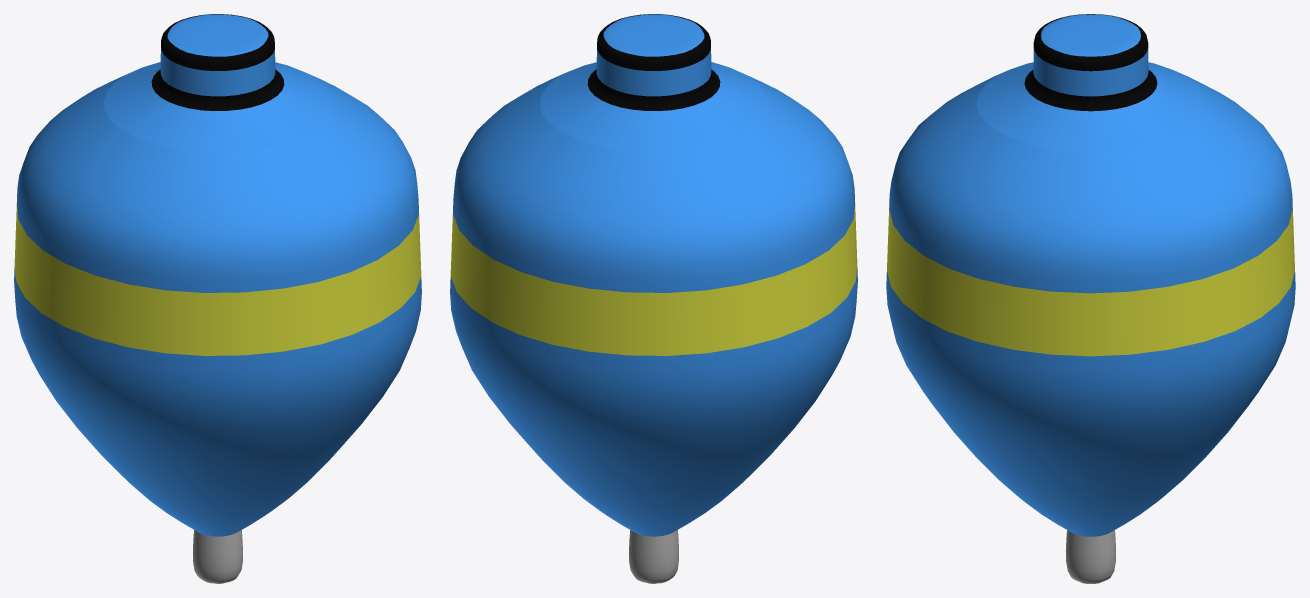
3 views of the same model, side by side, from view 1: azimuth 30°, elevation 25°; view 2: azimuth 150°, elevation 25°; view 3: azimuth 270°, elevation 25° (orthographic).
Visible parts, largest first — view 1: Trompo_Mat_0, Trompo_Mat.2_0, Trompo_Mat.3_0, Trompo_Mat.1_0; view 2: Trompo_Mat_0, Trompo_Mat.2_0, Trompo_Mat.3_0, Trompo_Mat.1_0; view 3: Trompo_Mat_0, Trompo_Mat.2_0, Trompo_Mat.3_0, Trompo_Mat.1_0.
Boxes of the visible parts, left/top/right/bottom form: Trompo_Mat_0: left=14, top=14, right=421, bottom=536; Trompo_Mat.2_0: left=14, top=203, right=421, bottom=355; Trompo_Mat.3_0: left=151, top=14, right=284, bottom=110; Trompo_Mat.1_0: left=193, top=530, right=242, bottom=583; Trompo_Mat_0: left=450, top=14, right=857, bottom=536; Trompo_Mat.2_0: left=450, top=203, right=857, bottom=355; Trompo_Mat.3_0: left=587, top=14, right=720, bottom=110; Trompo_Mat.1_0: left=629, top=530, right=678, bottom=583; Trompo_Mat_0: left=886, top=14, right=1295, bottom=536; Trompo_Mat.2_0: left=887, top=208, right=1294, bottom=356; Trompo_Mat.3_0: left=1024, top=14, right=1157, bottom=111; Trompo_Mat.1_0: left=1065, top=530, right=1116, bottom=583.
Bounding box in the file's own units: 8.83 × 12.95 × 8.83.
